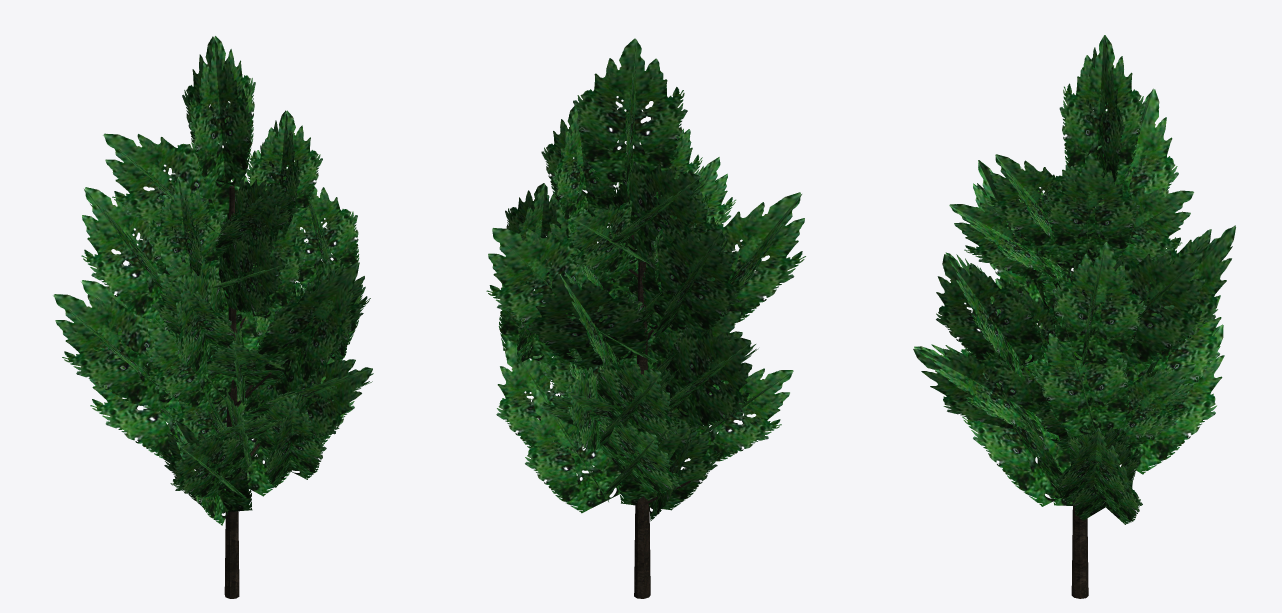
The model's file is tree2.gltf.
3 views of the same model, side by side, from view 1: azimuth 30°, elevation 25°; view 2: azimuth 150°, elevation 25°; view 3: azimuth 270°, elevation 25° (orthographic). The views are drawn at different scales.
Visible parts, largest first — view 1: Node_948de399-63cc-4a7e-92fa-c4739a5df1f3_0_1, Node_948de399-63cc-4a7e-92fa-c4739a5df1f3_0_0; view 2: Node_948de399-63cc-4a7e-92fa-c4739a5df1f3_0_1, Node_948de399-63cc-4a7e-92fa-c4739a5df1f3_0_0; view 3: Node_948de399-63cc-4a7e-92fa-c4739a5df1f3_0_1, Node_948de399-63cc-4a7e-92fa-c4739a5df1f3_0_0.
Part boxes in pixels (<box>): Node_948de399-63cc-4a7e-92fa-c4739a5df1f3_0_1: <box>53,36,373,525</box>; Node_948de399-63cc-4a7e-92fa-c4739a5df1f3_0_0: <box>224,185,271,598</box>; Node_948de399-63cc-4a7e-92fa-c4739a5df1f3_0_1: <box>486,38,805,521</box>; Node_948de399-63cc-4a7e-92fa-c4739a5df1f3_0_0: <box>600,200,690,598</box>; Node_948de399-63cc-4a7e-92fa-c4739a5df1f3_0_1: <box>913,35,1235,524</box>; Node_948de399-63cc-4a7e-92fa-c4739a5df1f3_0_0: <box>1070,229,1088,598</box>.
Bounding box in the file's own units: 5.96 × 9.73 × 6.08.
2 materials, 2 textured.
